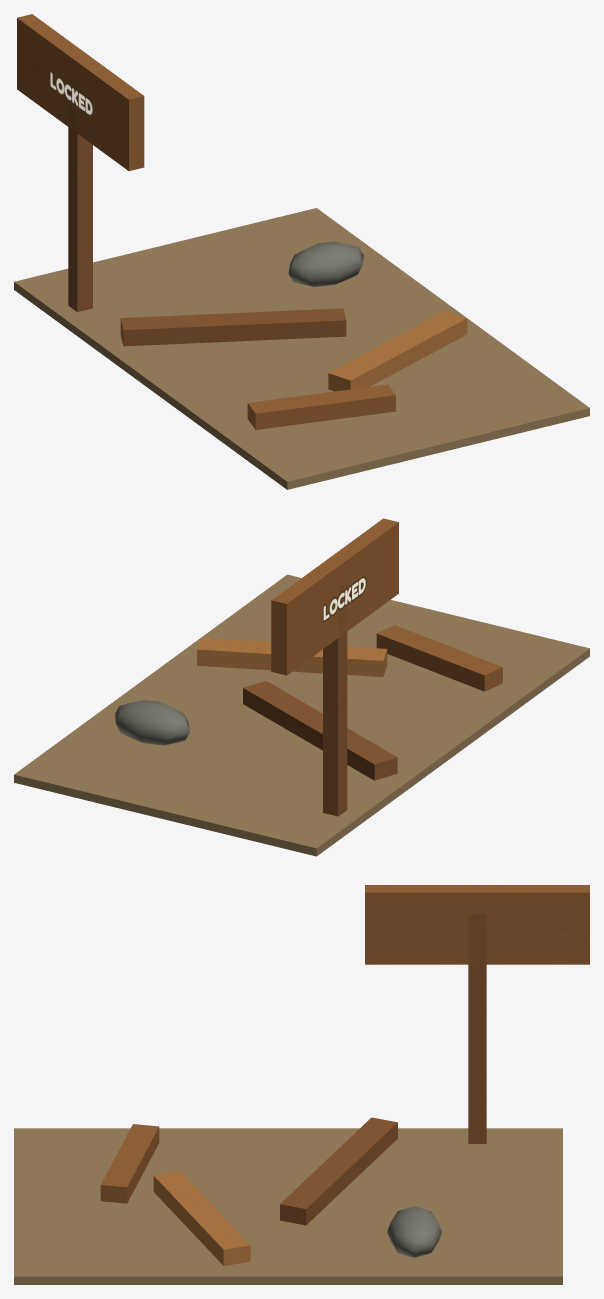
File: market-plot.glb
3 views of the same model, one above another, from view 1: azimuth 30°, elevation 25°; view 2: azimuth 150°, elevation 25°; view 3: azimuth 270°, elevation 25° (orthographic).
Bounding box in the file's own units: 1.95 × 1.59 × 3.2.
6 materials, 4 textured.
